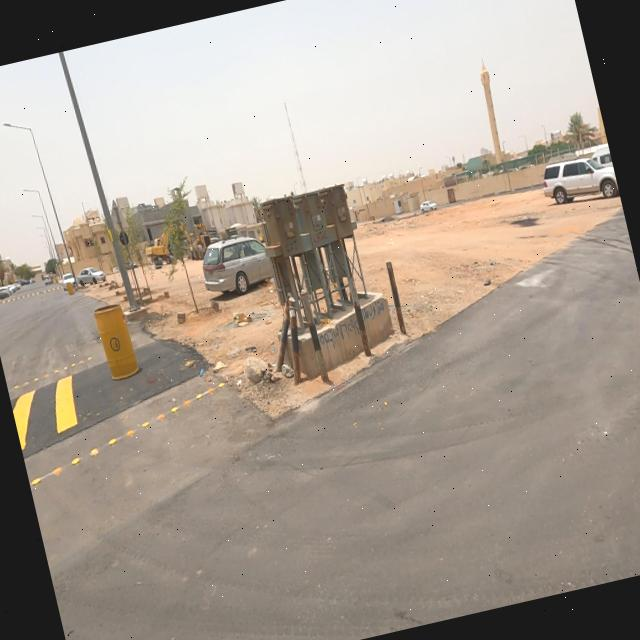Graffiti: (317, 318, 365, 358), (361, 299, 388, 322), (312, 229, 333, 248)
